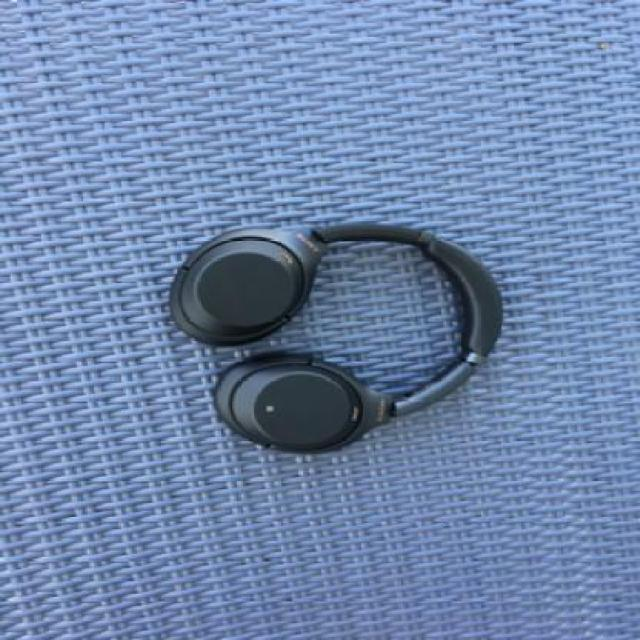earphone: (137, 58, 538, 455)
